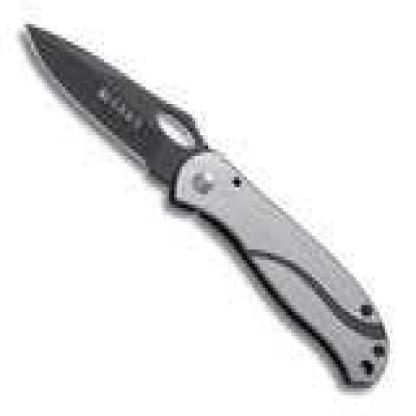Knife: (16, 18, 395, 403)
